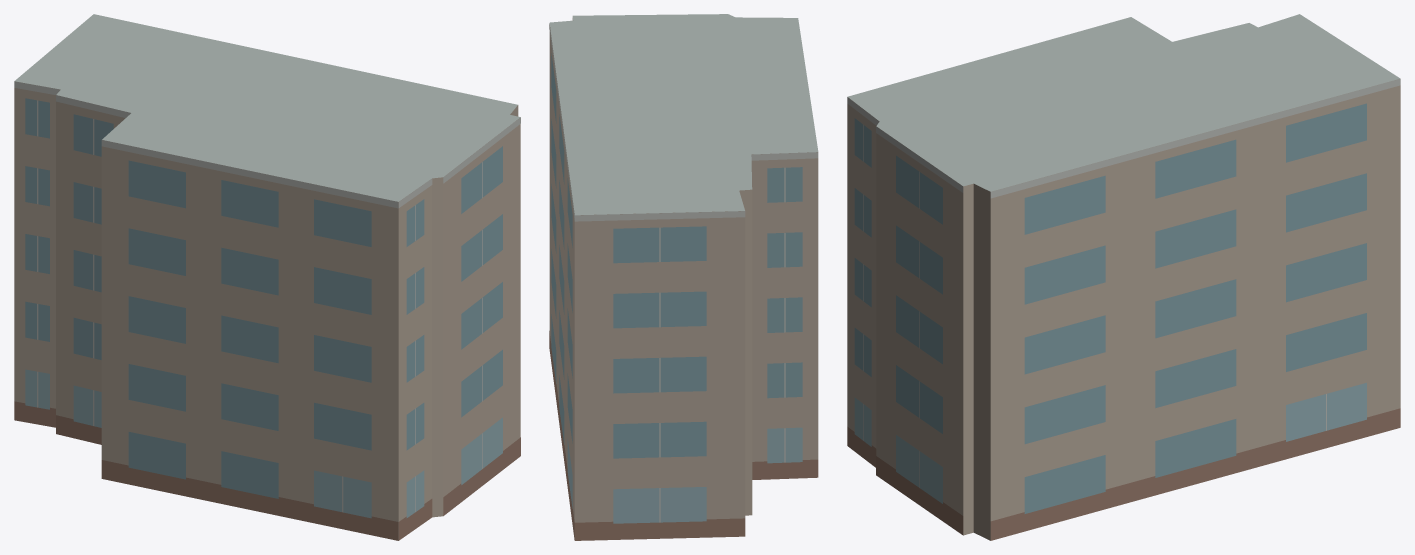
Rendered from survey-upis-32745696.glb.
The picture shows the model from 3 angles, left to right: view 1: azimuth 30°, elevation 25°; view 2: azimuth 150°, elevation 25°; view 3: azimuth 270°, elevation 25°; orthographic projection. The views are drawn at different scales.
Parts seen in each view (by area): view 1: survey-upis-32745696.tmp; view 2: survey-upis-32745696.tmp; view 3: survey-upis-32745696.tmp.
Boxes of the visible parts, left/top/right/bottom form: survey-upis-32745696.tmp: left=14, top=14, right=520, bottom=540; survey-upis-32745696.tmp: left=549, top=14, right=818, bottom=540; survey-upis-32745696.tmp: left=847, top=14, right=1400, bottom=540.
Bounding box in the file's own units: 13.77 × 12.6 × 18.11.
